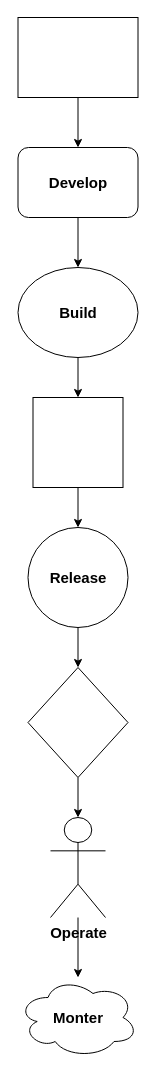
Image size: 155x1075. Some labels were removed from this diagram. Each missing label, with the centre of its shape:
"Display" goes at (77,722).
"Plane" goes at (77,57).
"Text" goes at (77,442).
